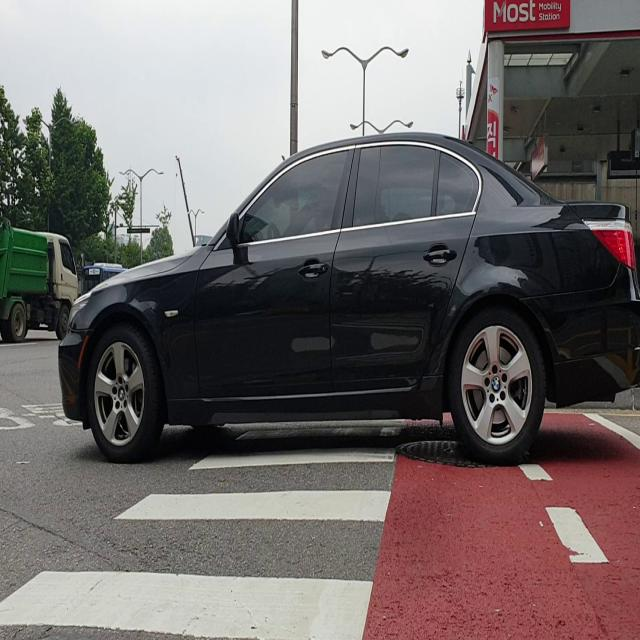횡단보도: (0, 416, 407, 640)
